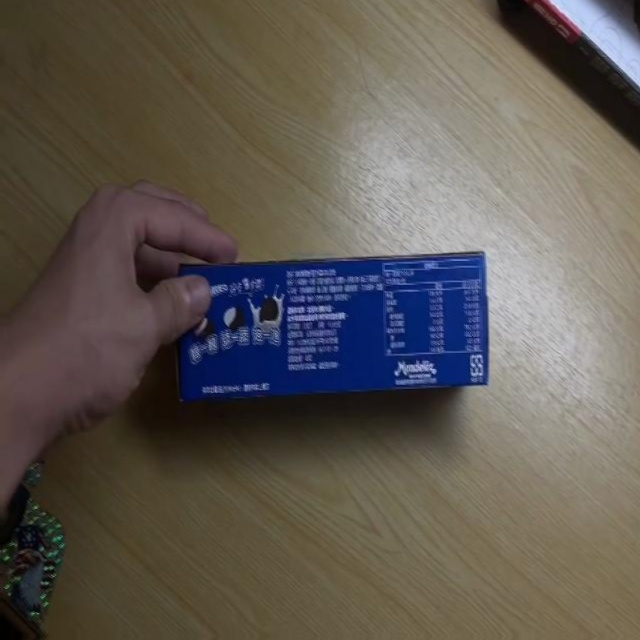Oreo: (169, 254, 490, 402)
